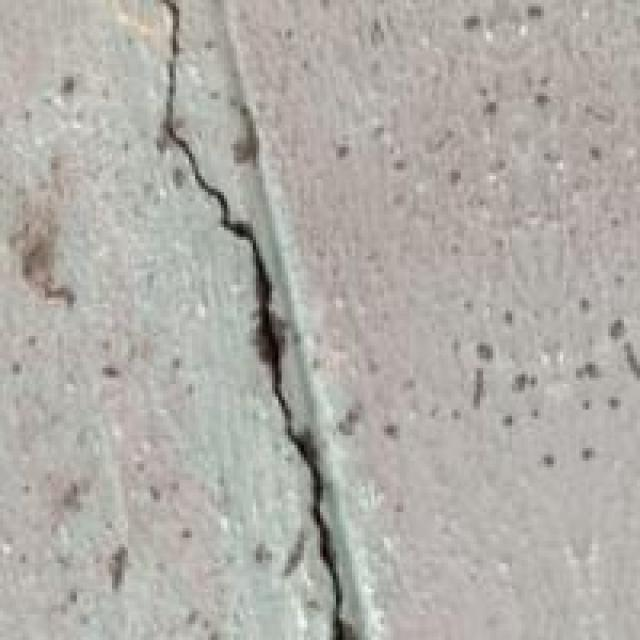Crack: (128, 0, 371, 637)
